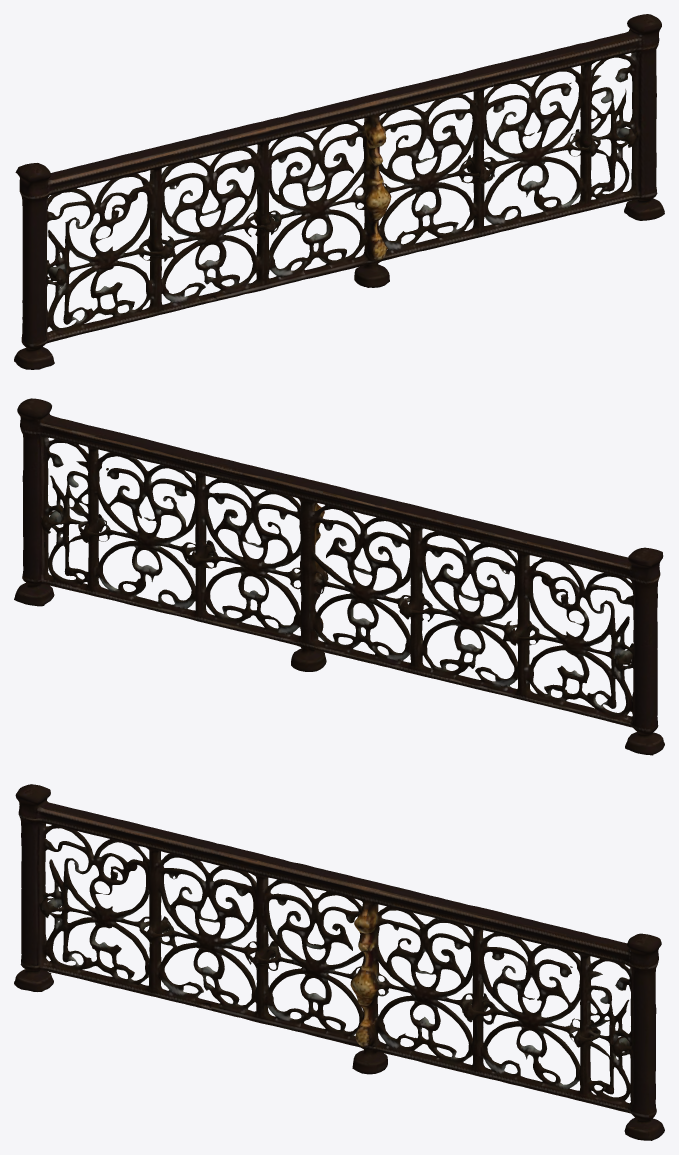
The model's file is railings_balcony.glb.
3 renders of one model, top to bottom at view 1: azimuth 30°, elevation 25°; view 2: azimuth 150°, elevation 25°; view 3: azimuth 330°, elevation 25°, orthographic.
Parts seen in each view (by area): view 1: tripo_node_bf7e7ca6-f347-48ca-b046-7ad546de85fa; view 2: tripo_node_bf7e7ca6-f347-48ca-b046-7ad546de85fa; view 3: tripo_node_bf7e7ca6-f347-48ca-b046-7ad546de85fa.
Part boxes in pixels (x1,y1,x2,y2): tripo_node_bf7e7ca6-f347-48ca-b046-7ad546de85fa: (14,14,664,369); tripo_node_bf7e7ca6-f347-48ca-b046-7ad546de85fa: (14,398,664,755); tripo_node_bf7e7ca6-f347-48ca-b046-7ad546de85fa: (14,784,664,1140).
Bounding box in the file's own units: 0.9991 × 0.2958 × 0.0539.
1 material, 1 textured.
